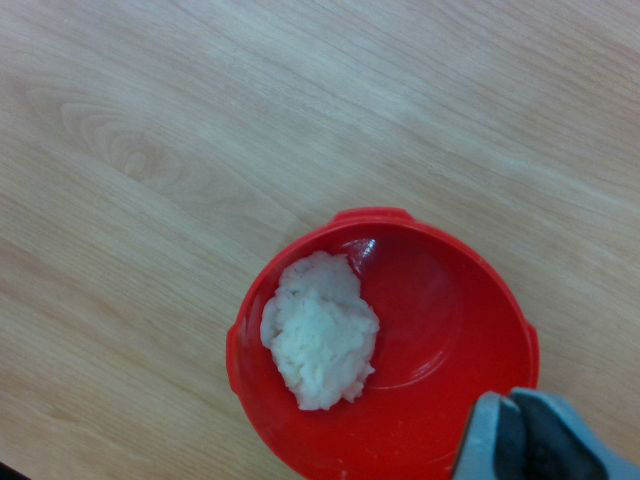mashed_potato: (260, 251, 380, 410)
